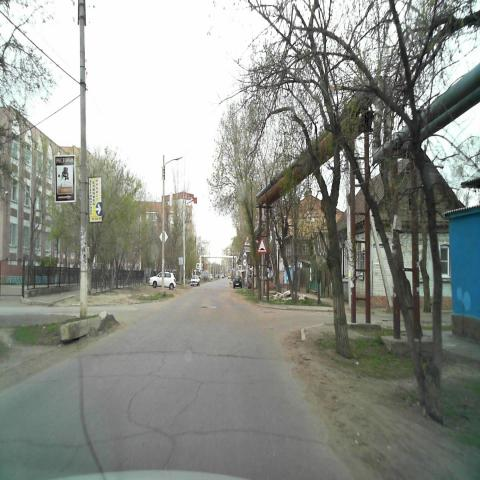1_17: (257, 237, 266, 252)
